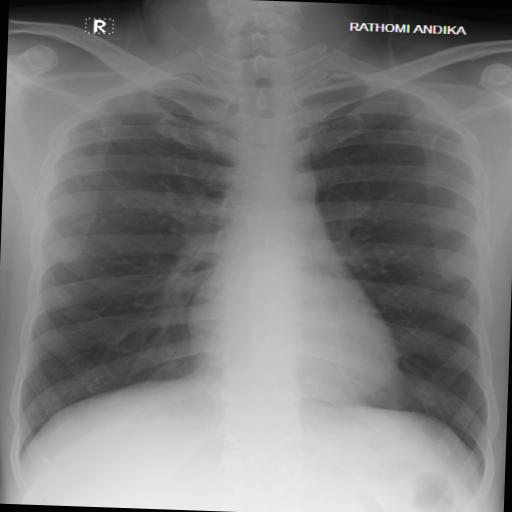normal: (5, 25, 512, 490)
